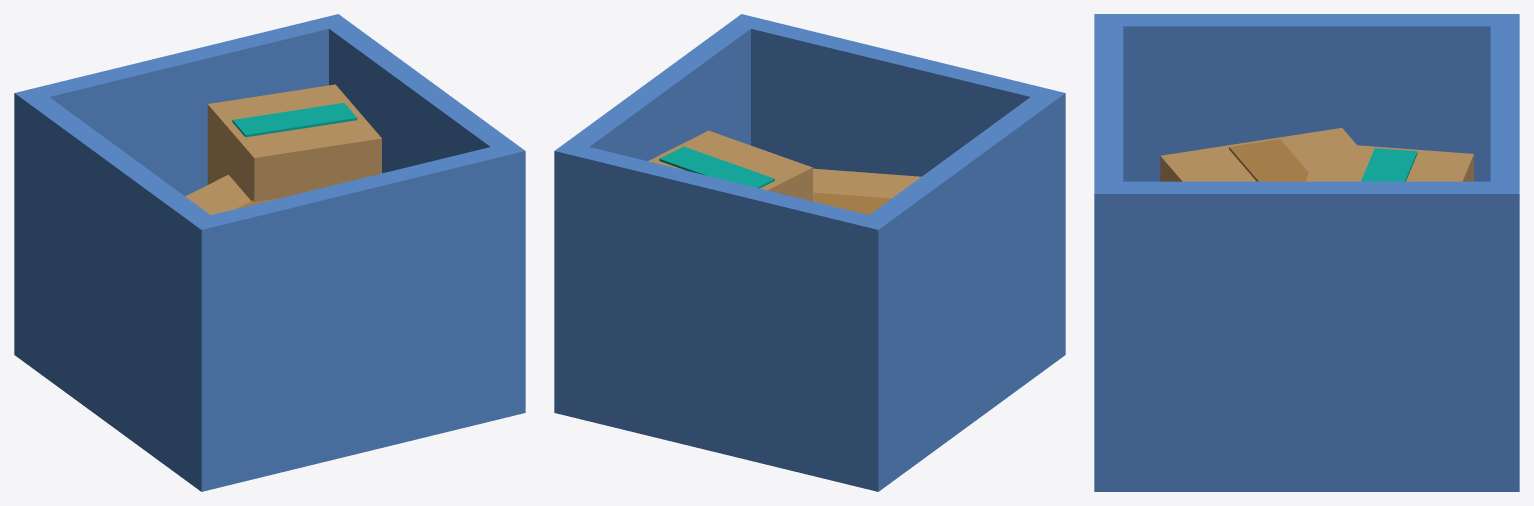
Rendered from station_transport_ausstattung_3_0.glb.
The picture shows the model from 3 angles, left to right: view 1: azimuth 30°, elevation 25°; view 2: azimuth 150°, elevation 25°; view 3: azimuth 270°, elevation 25°; orthographic projection. The views are drawn at different scales.
Visible parts, largest first — view 1: station_transport_ausstattung_3_0; view 2: station_transport_ausstattung_3_0; view 3: station_transport_ausstattung_3_0.
Boxes of the visible parts, <box> form: station_transport_ausstattung_3_0: <box>14,14,525,491</box>; station_transport_ausstattung_3_0: <box>554,14,1065,491</box>; station_transport_ausstattung_3_0: <box>1094,14,1519,491</box>.
Size of the model in its own units: 0.44 by 0.34 by 0.44.
